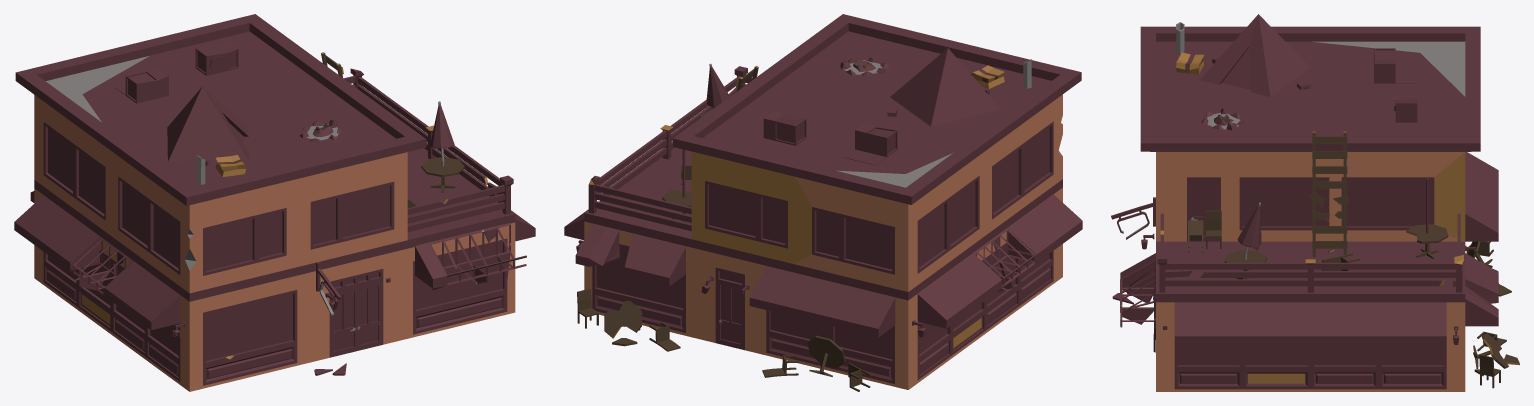
File: building-restaurant-apocalypse.fbx
3 renders of one model, left to right at view 1: azimuth 30°, elevation 25°; view 2: azimuth 150°, elevation 25°; view 3: azimuth 270°, elevation 25°, orthographic.
Visible parts, largest first — view 1: building-restaurant-apocalypse; view 2: building-restaurant-apocalypse; view 3: building-restaurant-apocalypse.
Part boxes in pixels (box(x1,y1,x2,y2)): building-restaurant-apocalypse: box(14, 14, 535, 391); building-restaurant-apocalypse: box(564, 14, 1082, 391); building-restaurant-apocalypse: box(1111, 14, 1519, 391).
Bounding box in the file's own units: 14.34 × 8.96 × 13.22.
